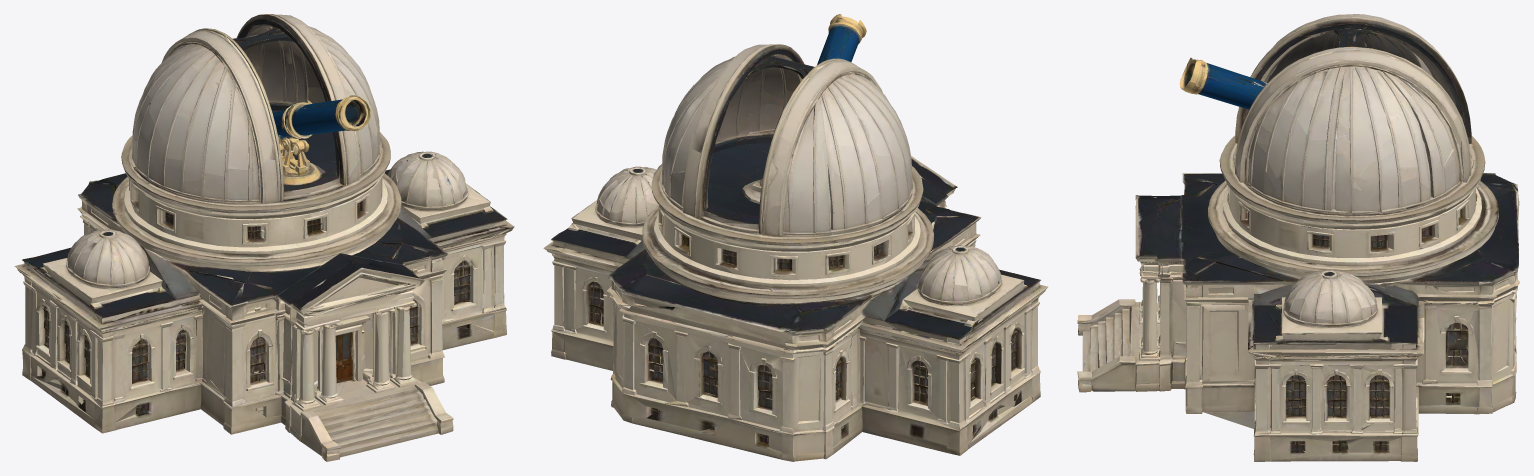
3 views of the same model, side by side, from view 1: azimuth 30°, elevation 25°; view 2: azimuth 150°, elevation 25°; view 3: azimuth 270°, elevation 25° (orthographic). The views are drawn at different scales.
Bounding box in the file's own units: 1.9 × 1.4 × 1.71.
Materials: 1 (1 with a texture image).
